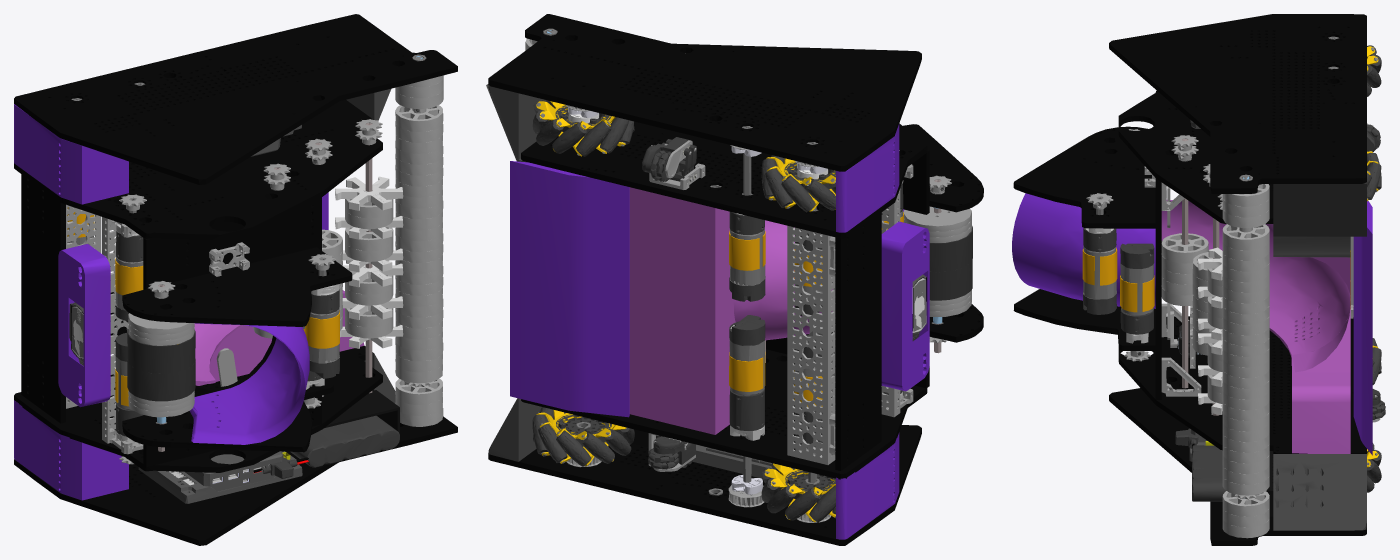
The model's file is stinger.glb.
3 renders of one model, left to right at view 1: azimuth 30°, elevation 25°; view 2: azimuth 150°, elevation 25°; view 3: azimuth 270°, elevation 25°, orthographic. The views are drawn at different scales.
Visible parts, largest first — view 1: robot; view 2: robot; view 3: robot.
Boxes of the visible parts, bbox=[...] form: robot: bbox=[14, 14, 457, 545]; robot: bbox=[486, 14, 983, 545]; robot: bbox=[1012, 14, 1385, 545].
Bounding box in the file's own units: 0.4533 × 0.4293 × 0.4038.
